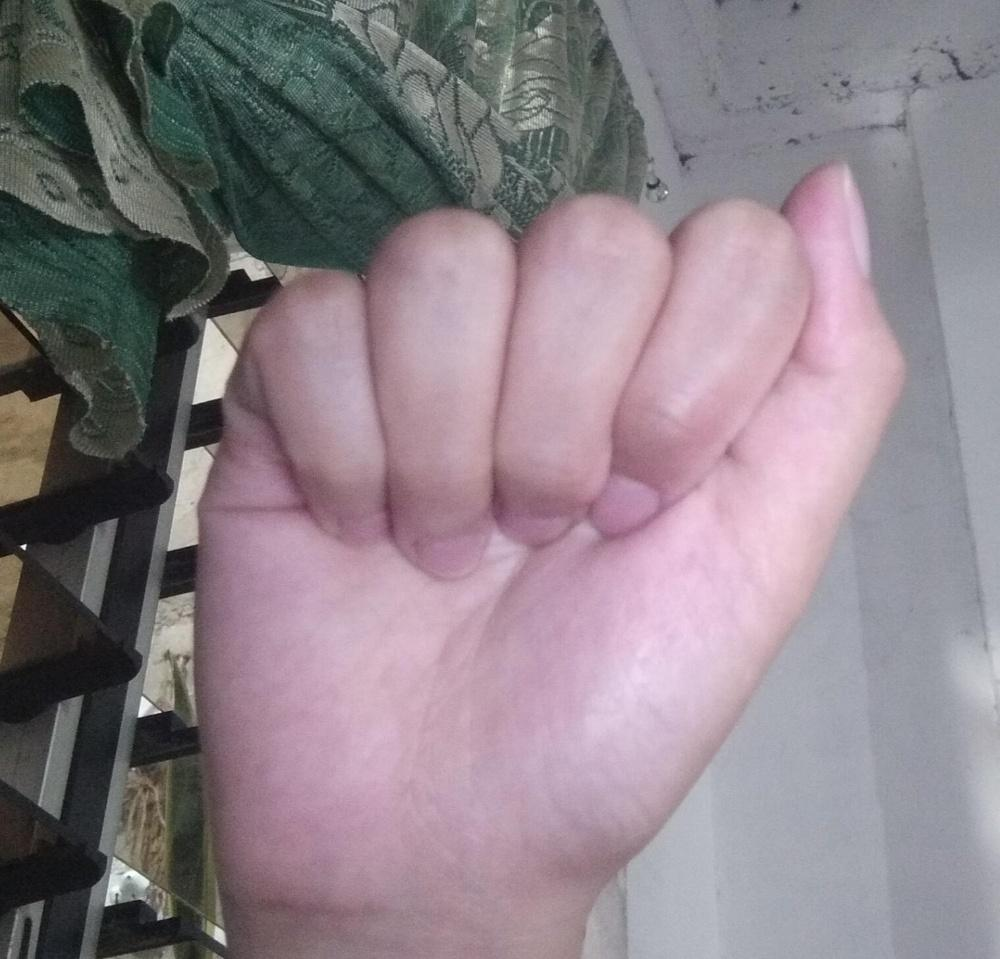a: (188, 157, 910, 906)
